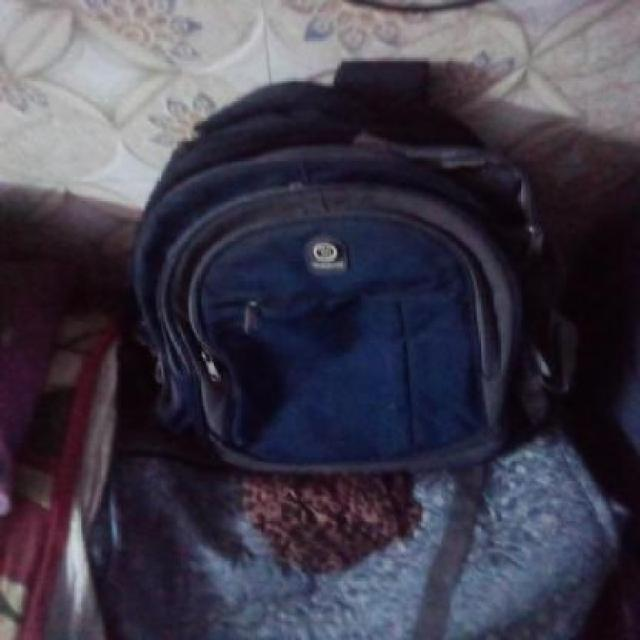backpack: (126, 56, 585, 482)
